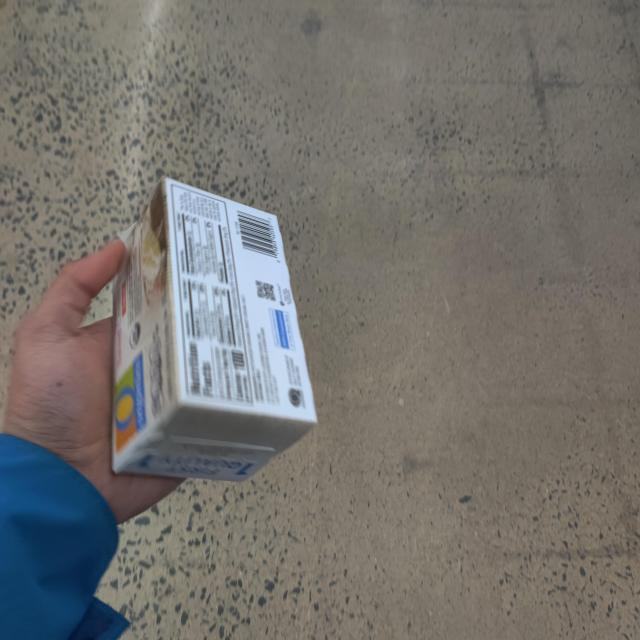Butter: (118, 179, 318, 489)
